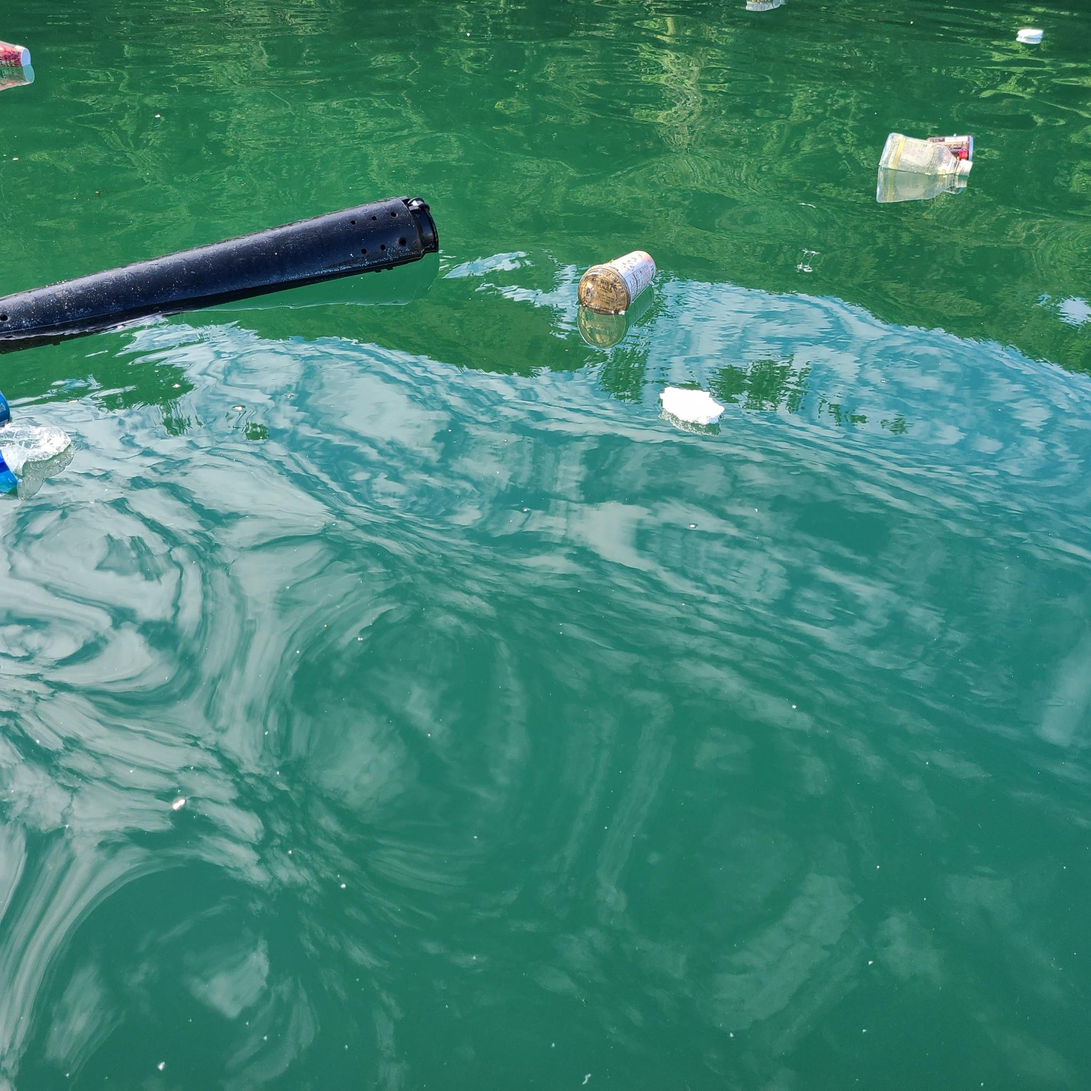sampah_terapung: (1, 197, 440, 355), (1, 424, 72, 498), (578, 251, 657, 315), (880, 133, 973, 177), (661, 387, 726, 424), (925, 136, 973, 164), (1, 40, 31, 68), (1, 389, 10, 426), (747, 1, 788, 6), (1018, 30, 1043, 38)
